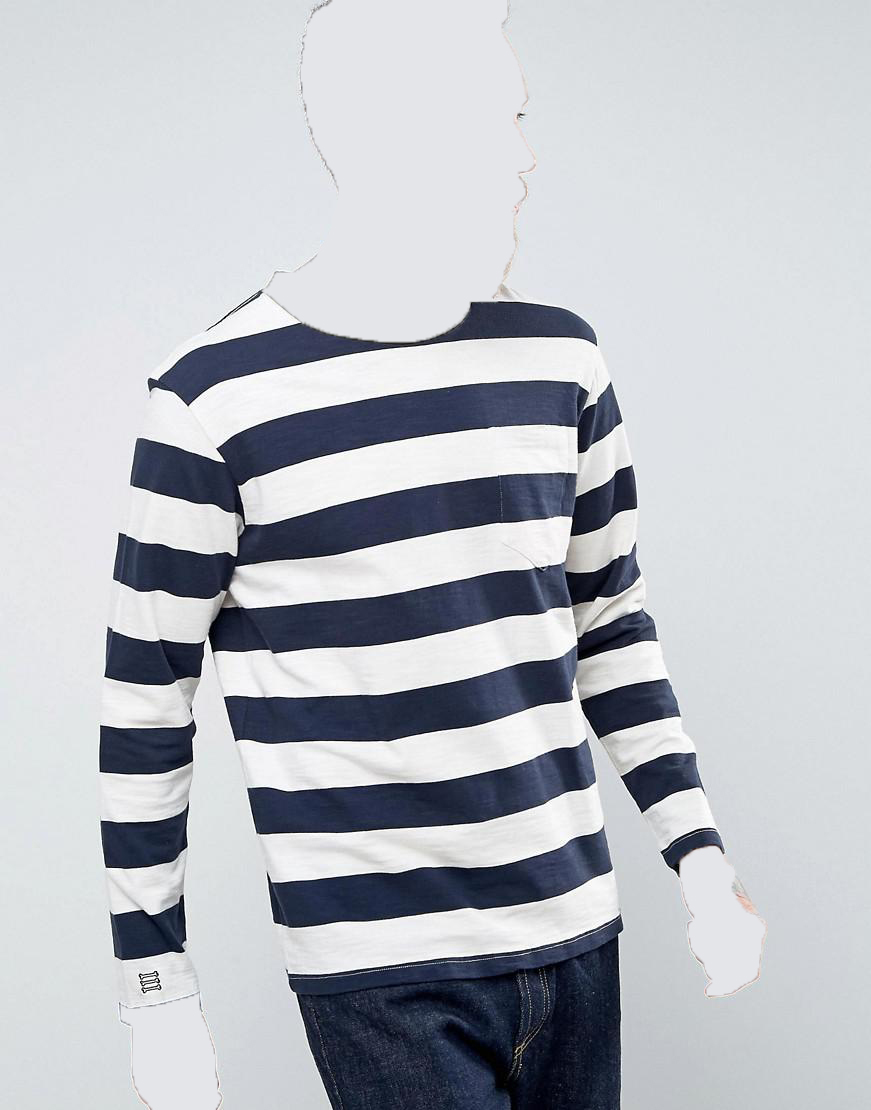teeshirt: (69, 290, 752, 986)
